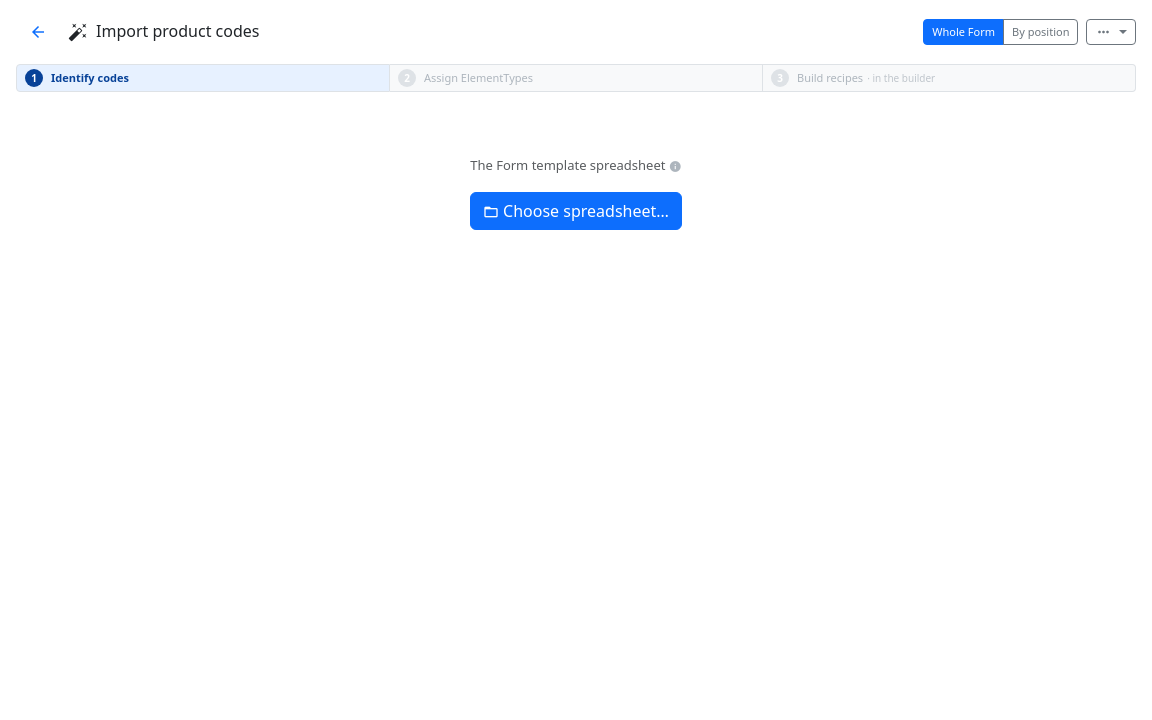
it: comparing two Forms in the import › Compare with an older Form: each row shows what changed, removed rows are listed
The width and height of the screenshot is (1152, 720).
Click the text "Choose spreadsheet…" at (586,210), box [503,200,669,222]
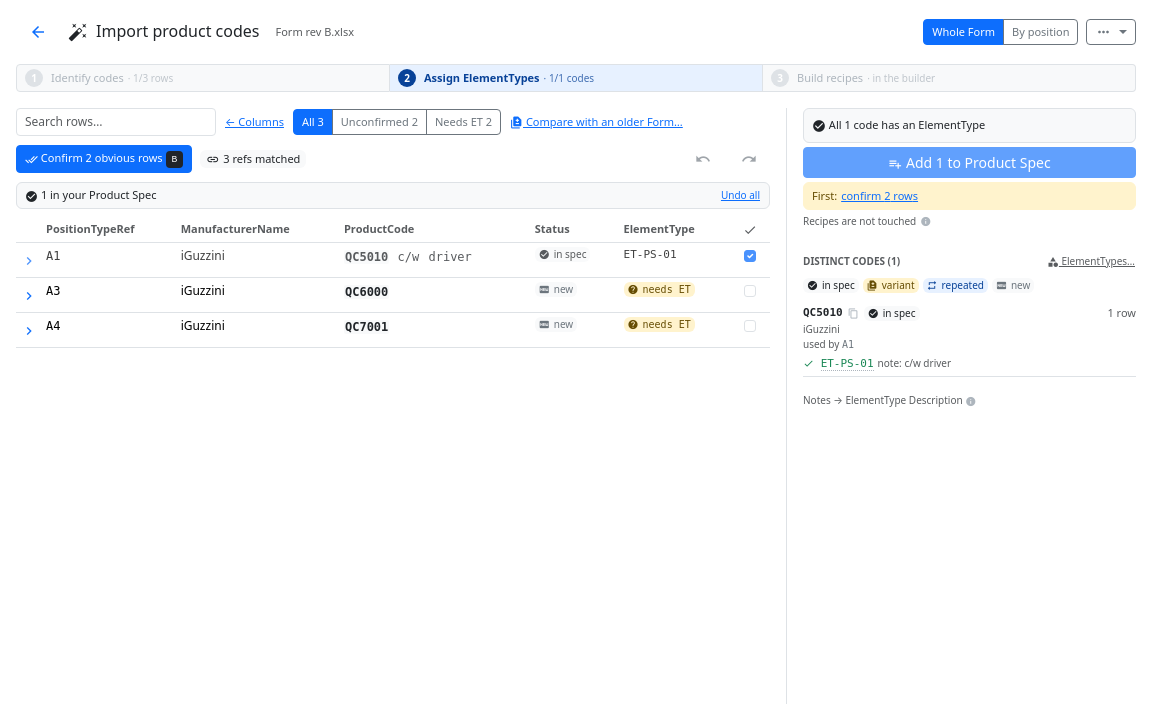
Now the table with test id "form-table" is shown, box [16,217,770,348]
Click the button "Compare with an older Form…" at (596,122), box [509,113,684,131]
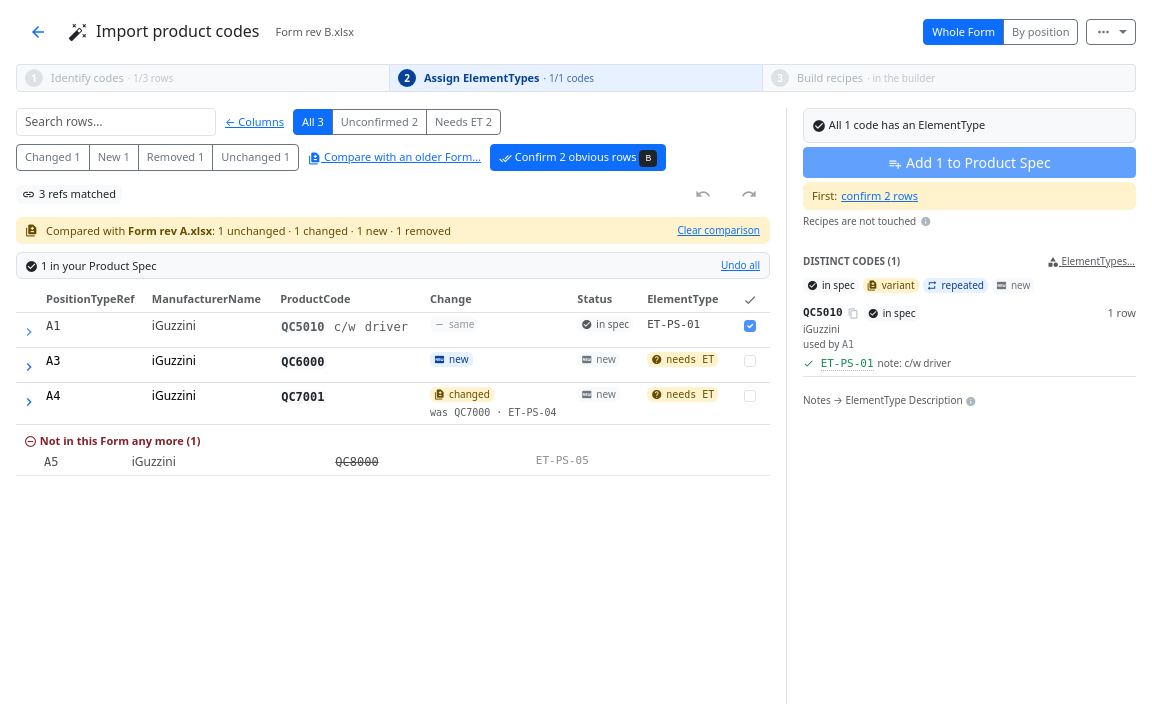
Now the element with test id "form-diff-banner" shows "Compared with Form rev A.xlsx: 1 unchanged · 1 changed · 1 new · 1 removed", box [16,217,770,244]
Now the cell with test id "row-change" shows "was QC7000 · ET-PS-04", box [426,382,573,424]
Now the text "QC8000" is shown, box [331,449,532,476]
Click the button "Changed 1" at (53,158), box [16,144,90,171]
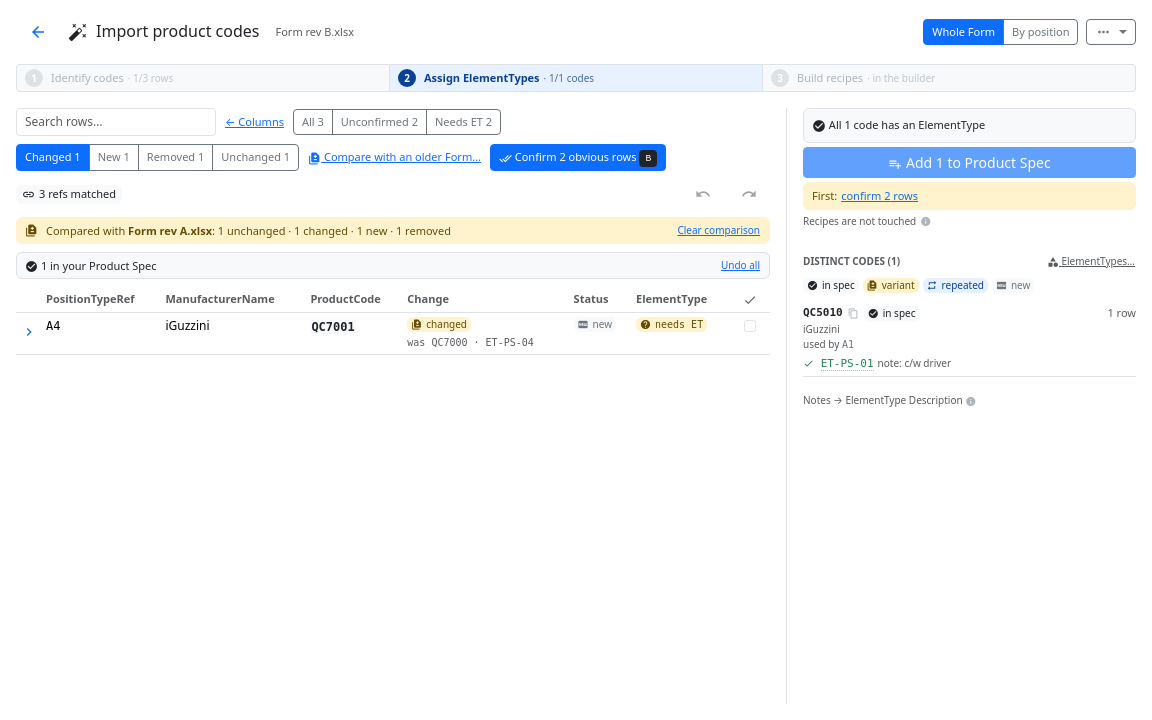
Click the button named "Open painter" at (29,330), box [20,317,38,343]
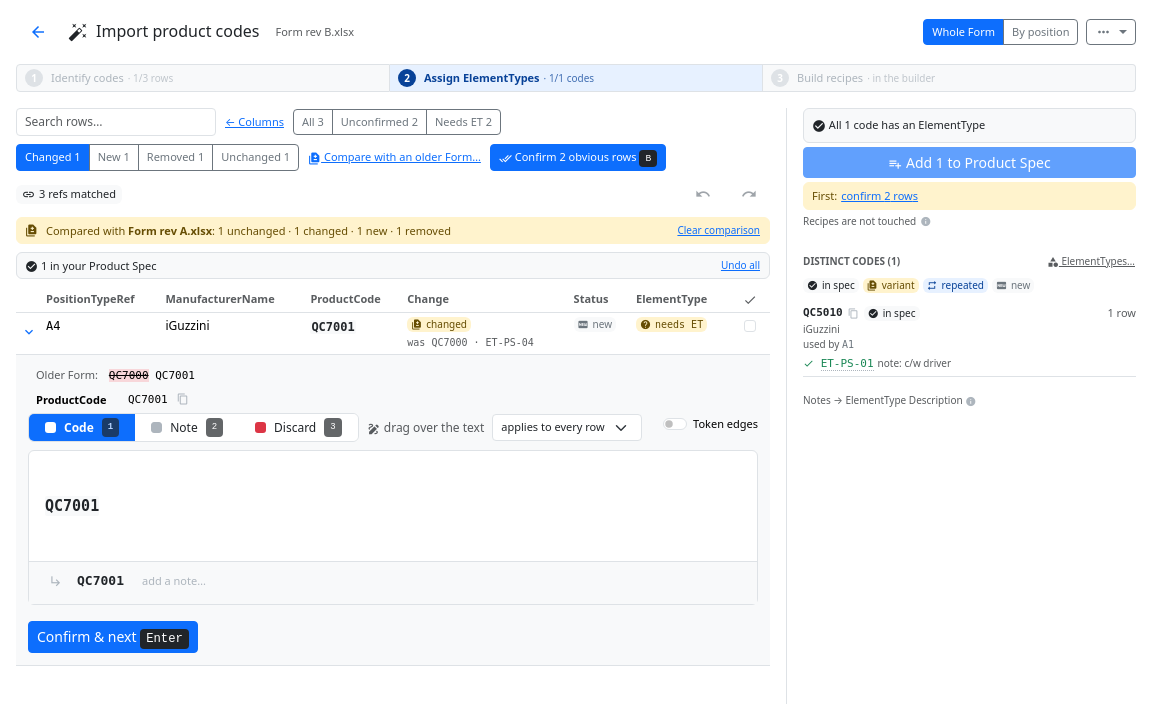
Now the element with test id "row-was" shows "QC7000 QC7001", box [36,367,195,382]
Click the button "Clear comparison" at (719,231), box [676,222,761,239]
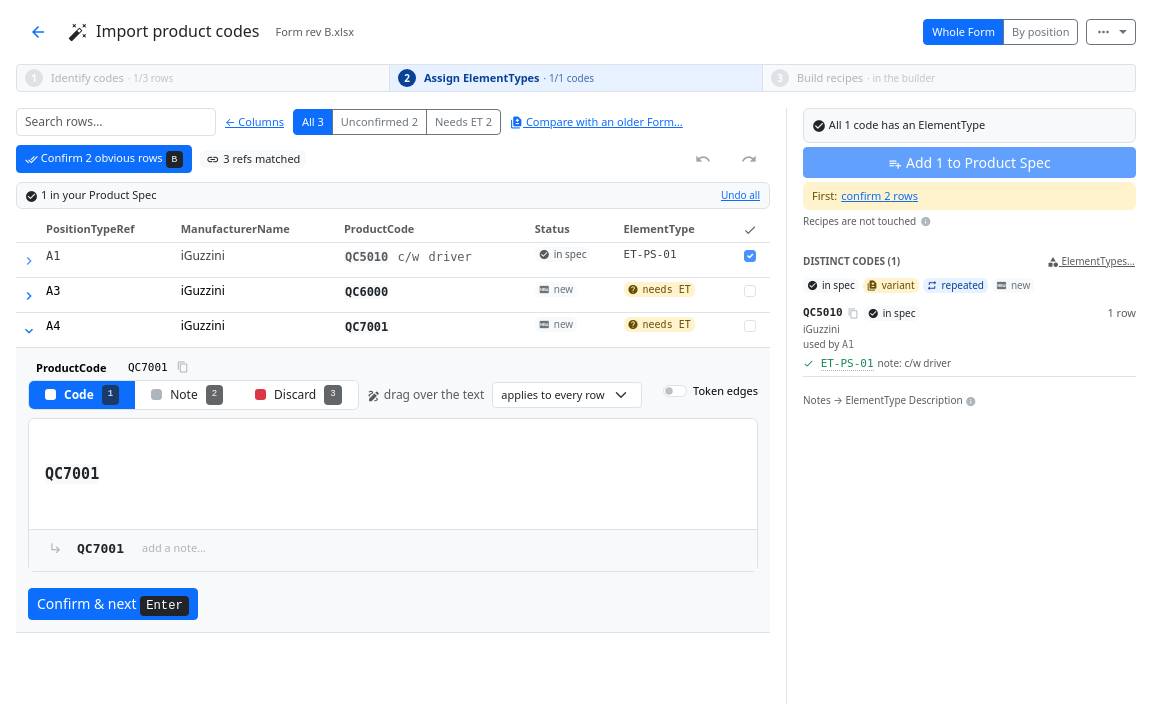
Now the element with test id "form-diff-banner" is gone
Now the cell with test id "row-change" is gone
